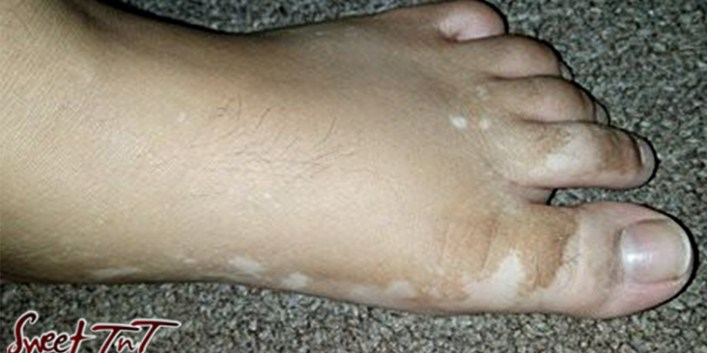vitiligo: (306, 144, 666, 295)
